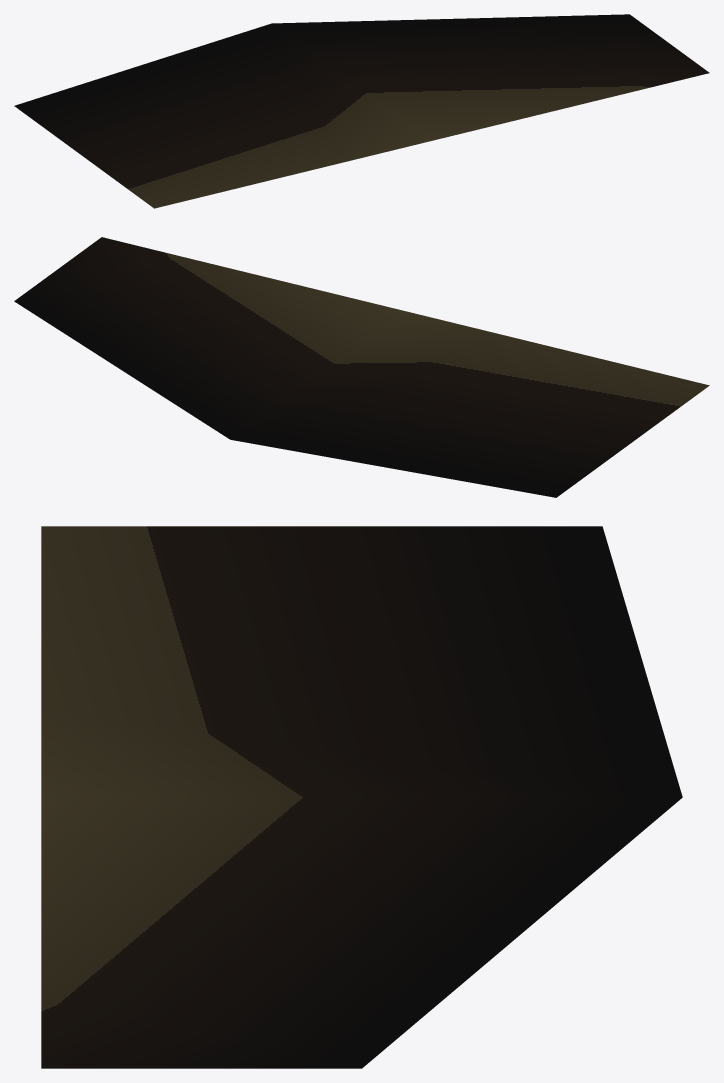
3 views of the same model, one above another, from view 1: azimuth 30°, elevation 25°; view 2: azimuth 150°, elevation 25°; view 3: azimuth 270°, elevation 25° (orthographic). The views are drawn at different scales.
Bounding box in the file's own units: 1 × 0 × 0.5.
Materials: 1 (1 with a texture image).
